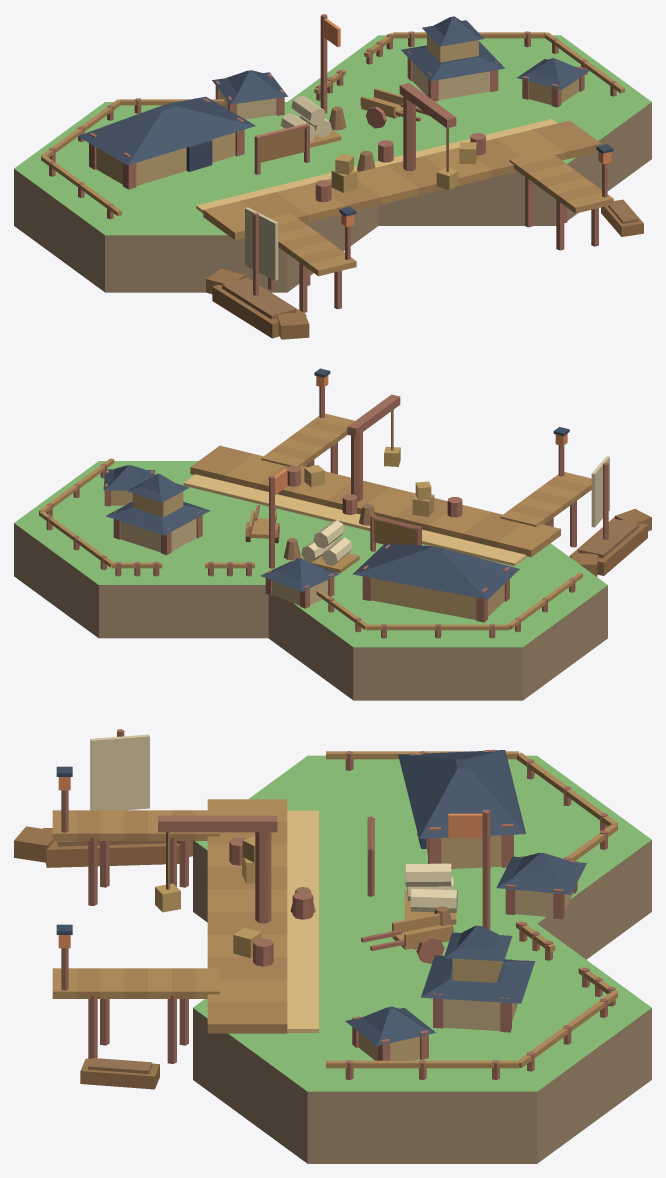
The model's file is port-medium.glb.
3 views of the same model, one above another, from view 1: azimuth 30°, elevation 25°; view 2: azimuth 150°, elevation 25°; view 3: azimuth 270°, elevation 25° (orthographic). The views are drawn at different scales.
Parts seen in each view (by area): view 1: base_0, base_1, warehouse_roof, warehouse_body, office_eave1, shore_sand, junk_sail, wharf_plank_4, wharf_plank_9, office_body1, junk_hull, junk_inner (+34 smaller); view 2: base_0, base_1, warehouse_roof, shore_sand, warehouse_body, office_eave1, wharf_plank_0, office_body1, wharf_plank_9, junk_inner, wharf_plank_1, wharf_plank_8 (+23 smaller); view 3: base_1, base_0, warehouse_roof, shore_sand, junk_sail, office_eave1, wharf_plank_9, junk_hull, crane_arm, office_body1, wharf_plank_8, warehouse_body (+44 smaller).
Boxes of the visible parts, x1,y1,x2,y2 form: base_0: (14, 102, 378, 292); base_1: (288, 35, 651, 225); warehouse_roof: (77, 96, 255, 165); warehouse_body: (96, 132, 235, 185); office_eave1: (401, 41, 504, 81); shore_sand: (196, 119, 557, 213); junk_sail: (245, 207, 278, 280); wharf_plank_4: (357, 165, 418, 204); wharf_plank_9: (533, 120, 601, 159); office_body1: (412, 62, 490, 100); junk_hull: (212, 277, 306, 338); junk_inner: (222, 278, 296, 319); base_0: (268, 526, 607, 700); base_1: (14, 461, 348, 638); warehouse_roof: (353, 543, 519, 599); shore_sand: (183, 474, 527, 566); warehouse_body: (371, 578, 504, 619); office_eave1: (105, 501, 209, 535); wharf_plank_0: (497, 524, 560, 557); office_body1: (120, 518, 196, 552); wharf_plank_9: (190, 445, 253, 481); junk_inner: (578, 518, 639, 558); wharf_plank_1: (463, 512, 521, 547); wharf_plank_8: (224, 454, 283, 489); base_1: (193, 923, 651, 1163); base_0: (193, 755, 651, 959); warehouse_roof: (398, 750, 525, 838); shore_sand: (287, 810, 318, 1032); junk_sail: (90, 734, 149, 810); office_eave1: (421, 955, 534, 1003); wharf_plank_9: (207, 1002, 287, 1033); junk_hull: (43, 828, 179, 867); crane_arm: (158, 815, 277, 832); office_body1: (443, 999, 517, 1030); wharf_plank_8: (207, 979, 287, 1001); warehouse_body: (426, 835, 501, 868).
Size of the model in its own units: 2 by 0.54 by 1.6.
